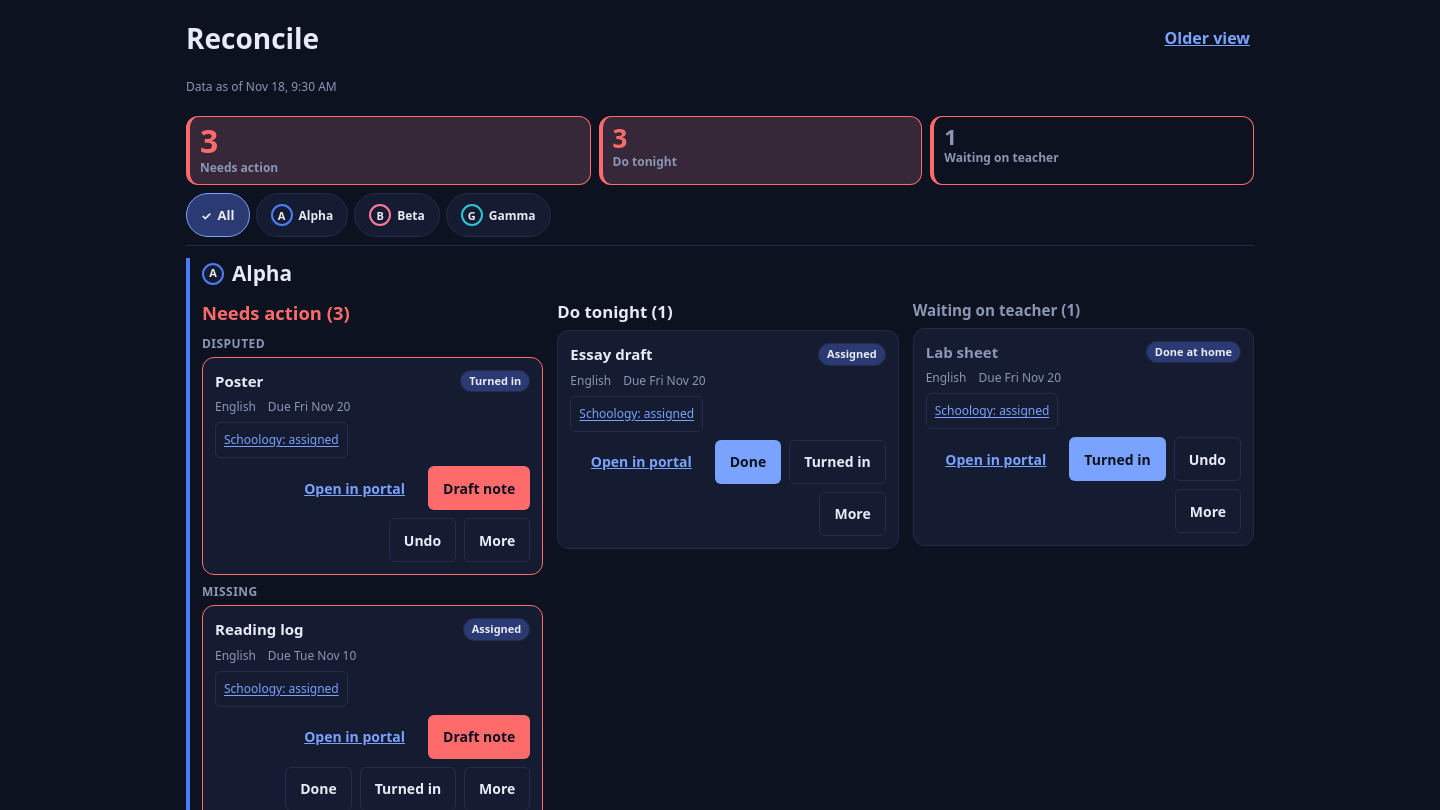
Test case: a failed note status change keeps the sheet open with a message
The image size is (1440, 810).
Expected: the heading "Alpha" is shown, [232,258,292,289]
Step 1. Click the button with aria-label "Draft note for Poster (English, Alpha)" → (479, 488), box [428,466,530,510]
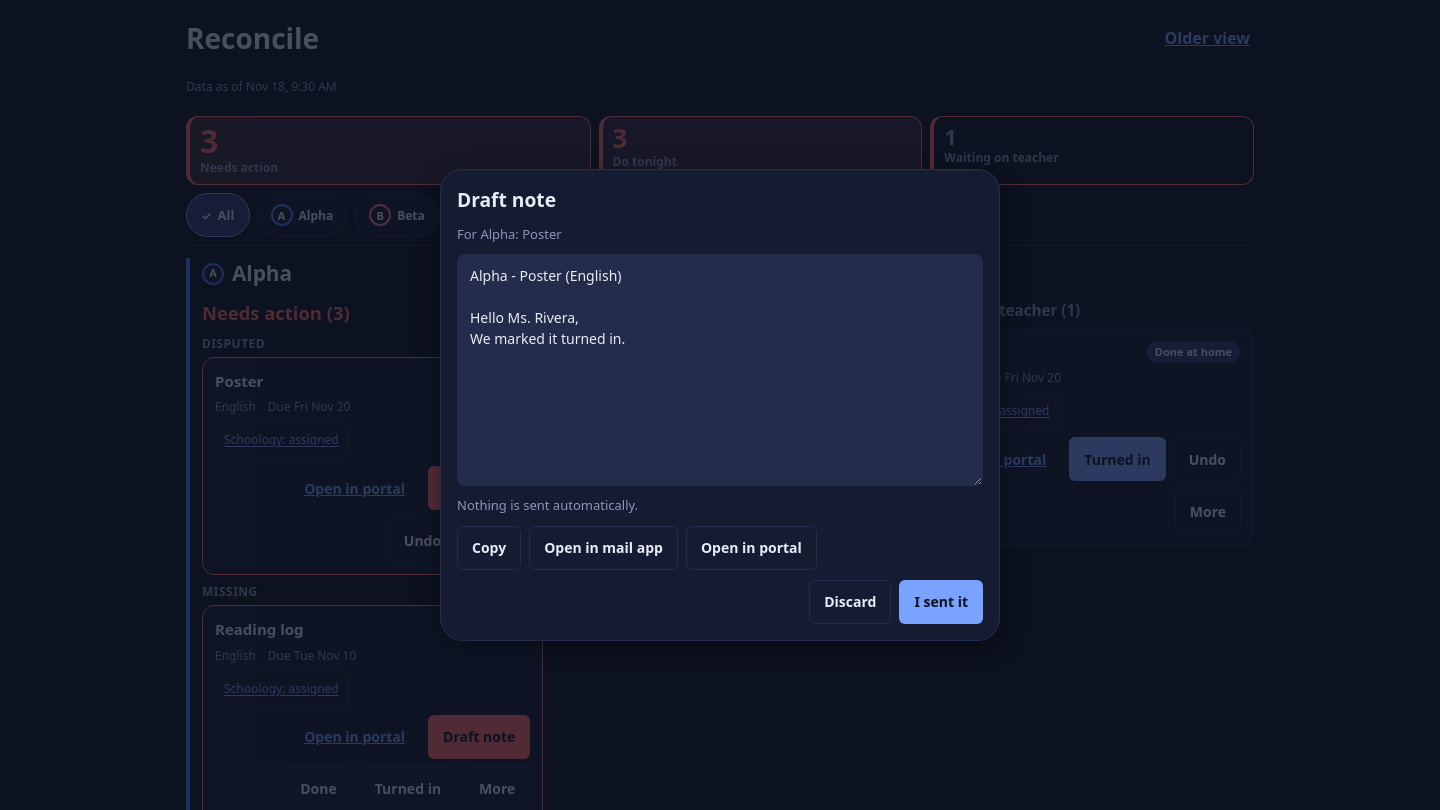
Step 2. Click the button "I sent it" → (941, 602), box [899,580,983,624]
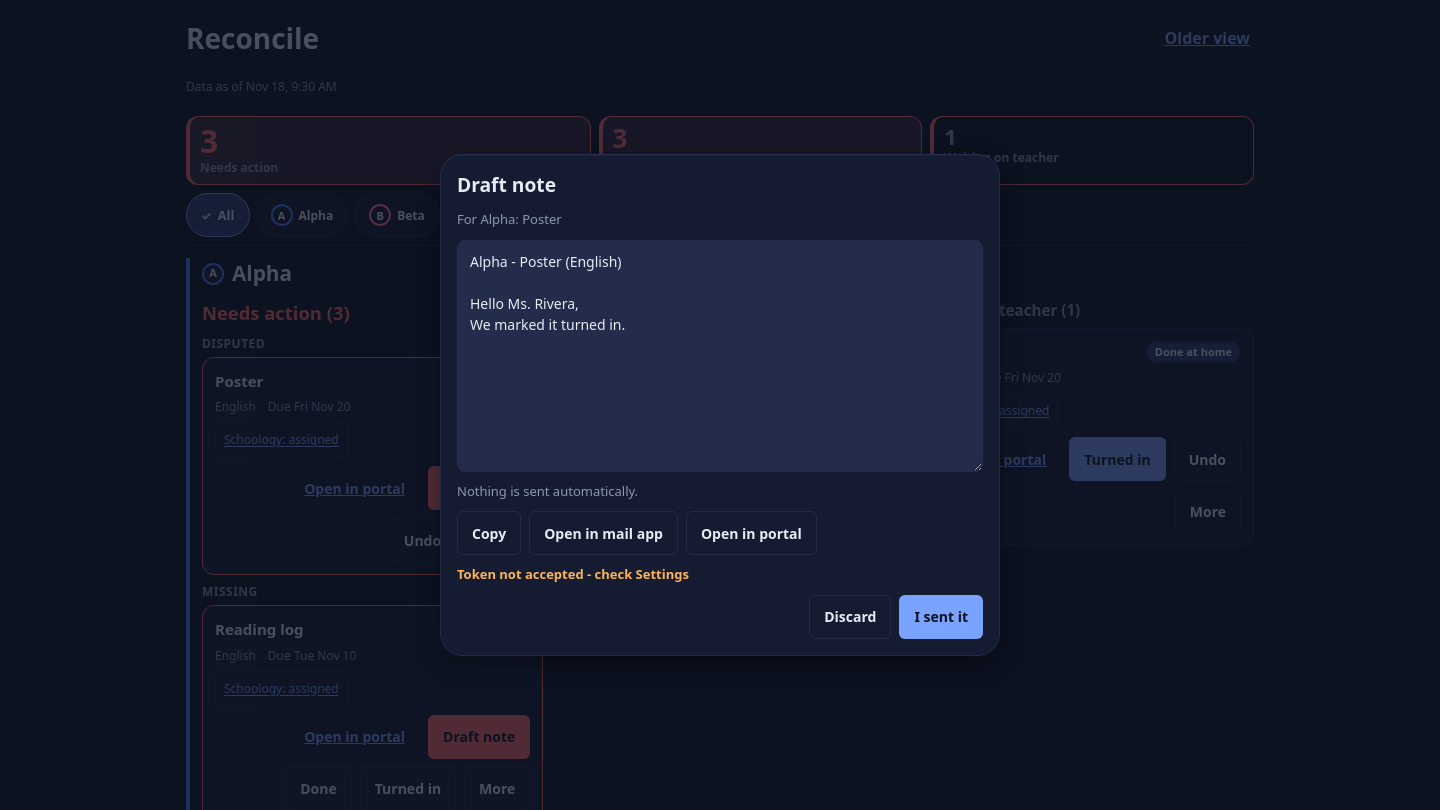
Expected: the dialog is shown, [440,154,1000,656]
Expected: the text "Token not accepted - check Settings" is shown, [457,565,689,583]
